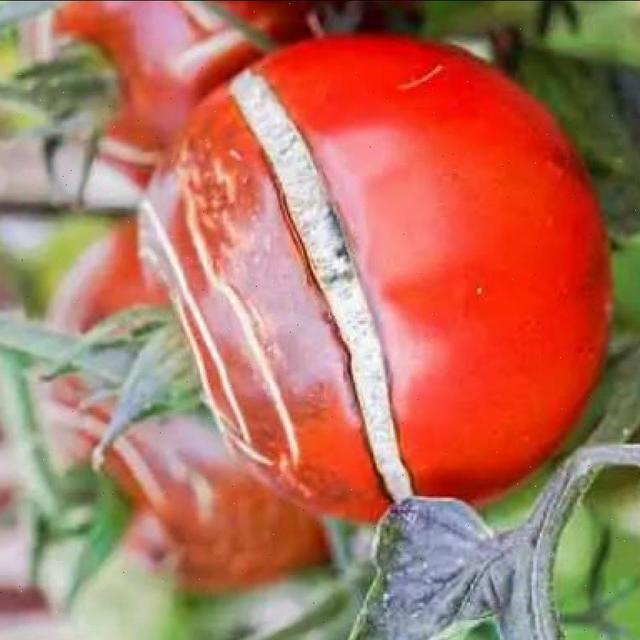Cracking Fruit: (43, 28, 217, 326)
